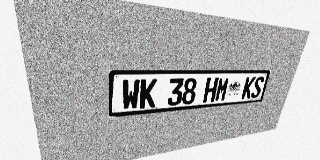3: (167, 78, 184, 106)
8: (181, 78, 198, 105)
H: (203, 77, 219, 103)
K: (139, 79, 157, 109), (241, 77, 256, 99)
M: (214, 77, 230, 102)
S: (250, 76, 265, 98)
W: (122, 79, 140, 110)
